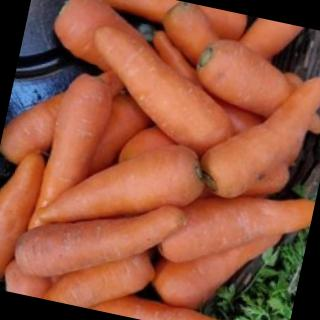Wortel: (34, 117, 211, 254), (9, 174, 192, 306), (74, 22, 250, 158)
